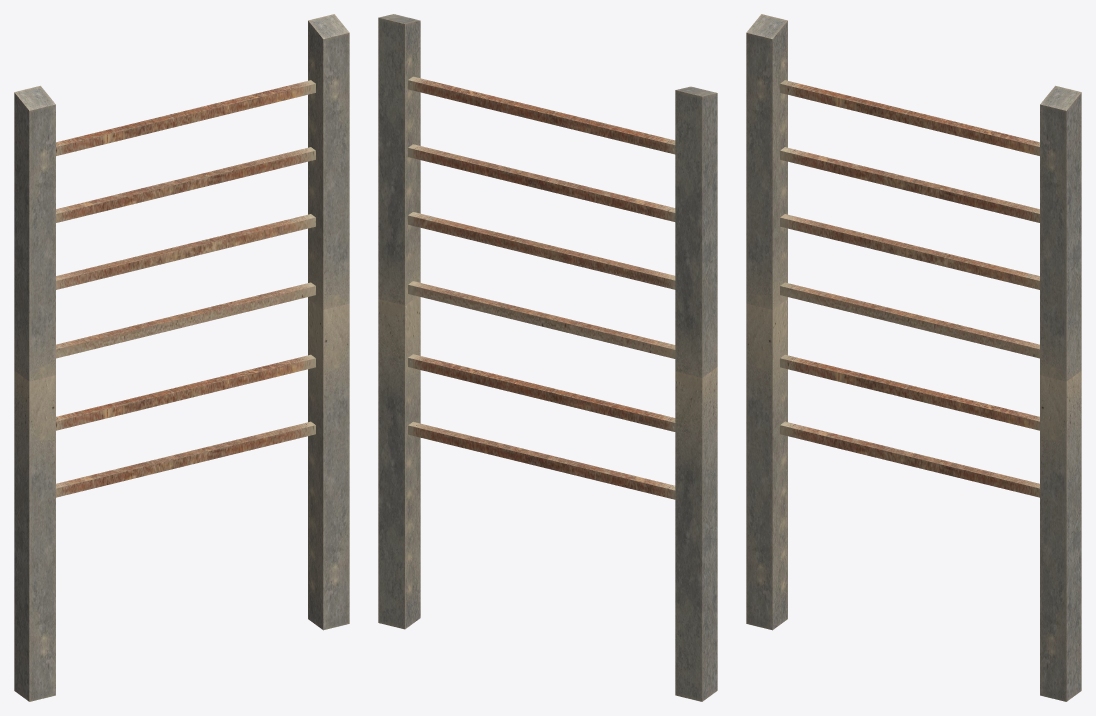
The model's file is DesertBarrier 2.glb.
The picture shows the model from 3 angles, left to right: view 1: azimuth 30°, elevation 25°; view 2: azimuth 150°, elevation 25°; view 3: azimuth 330°, elevation 25°; orthographic projection.
Visible parts, largest first — view 1: var3_var3_0.001; view 2: var3_var3_0.001; view 3: var3_var3_0.001.
Part boxes in pixels (x1,y1,x2,y2): var3_var3_0.001: (14,14,349,701); var3_var3_0.001: (378,14,717,701); var3_var3_0.001: (746,14,1081,701).
Size of the model in its own units: 1.51 by 2.71 by 0.125.
1 material, 1 textured.
